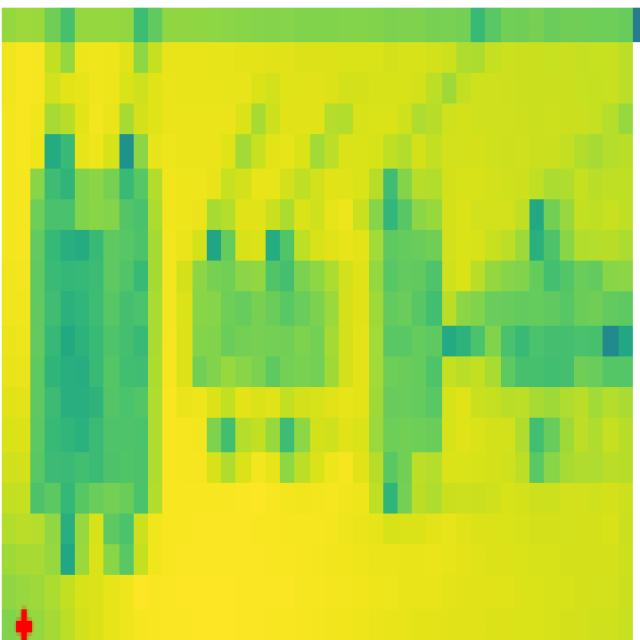Concrete: (30, 168, 164, 510)
Glass: (485, 257, 606, 388)
Metal: (193, 261, 339, 388)
Wood: (369, 199, 441, 449)
